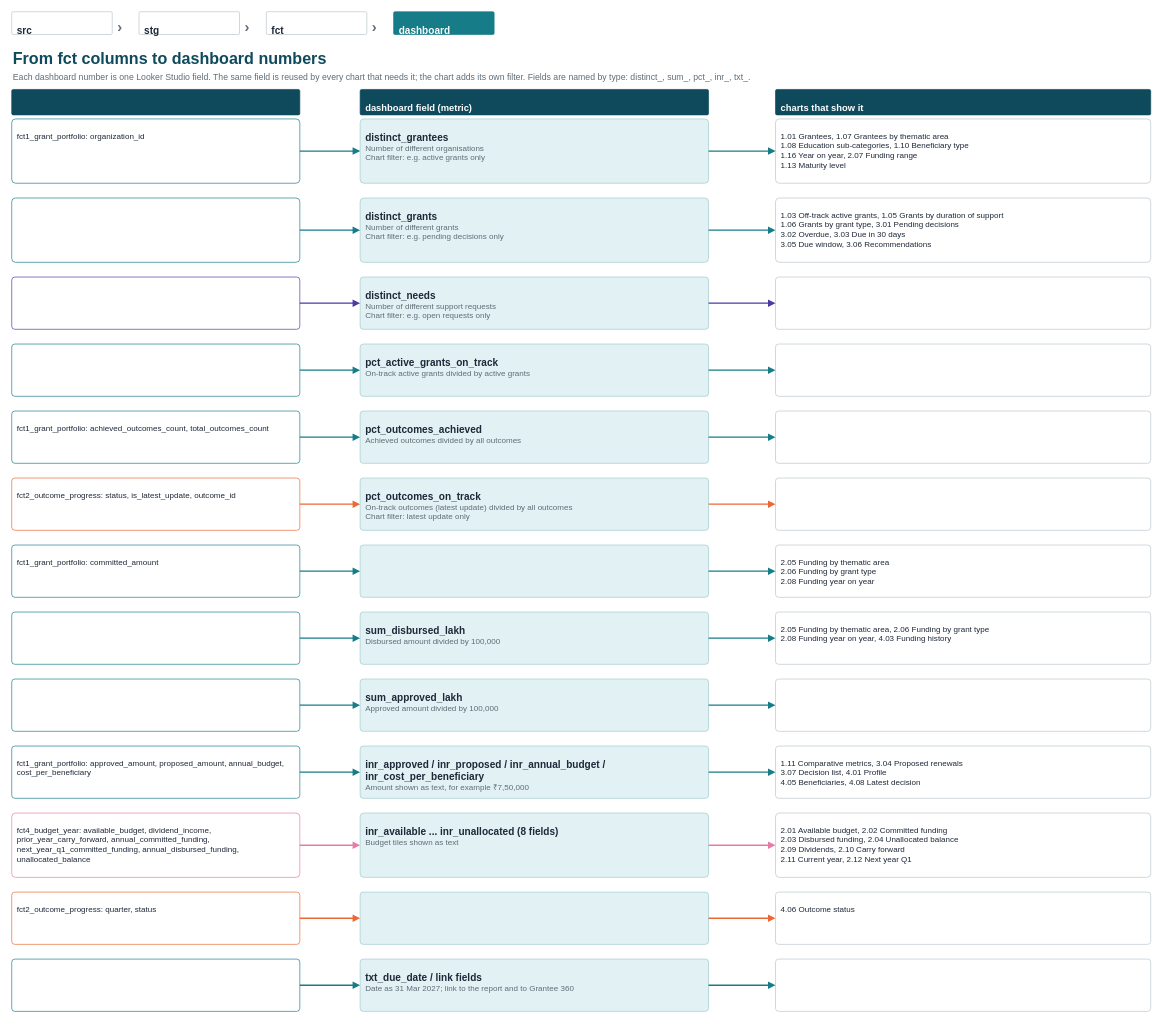
This 1162x1023 diagram has some shape labels left out. The shapes that lost their labels are listed below. From the top down, each one's centre as x and y in pixels, then its label:
the point at 155,102: fct columns it reads
the point at 155,229: fct1_grant_portfolio: grant_id
the point at 155,302: fct3_support_activity: support_id
the point at 963,302: 1.04 Open support needs 1.14 Support needs raised 1.15 Support provided
the point at 155,369: fct1_grant_portfolio: is_active_grant, is_on_track_active_grant, grant_id
the point at 963,369: 1.02 Active grantees on track
the point at 963,436: 3.07 Decision list
the point at 963,503: 1.12 Quarterly outcome status
the point at 534,570: sum_committed_lakh Committed amount divided by 100,000
the point at 155,637: fct1_grant_portfolio: disbursed_amount
the point at 155,704: fct1_grant_portfolio: approved_amount
the point at 963,704: 4.03 Funding history
the point at 534,917: txt_status_q1 ... txt_status_q4 On Track or Off Track for each quarter
the point at 155,984: fct1_grant_portfolio: decision_due_date, annual_report_link, organisation
the point at 963,984: 3.07 Decision list 4.08 Latest decision
